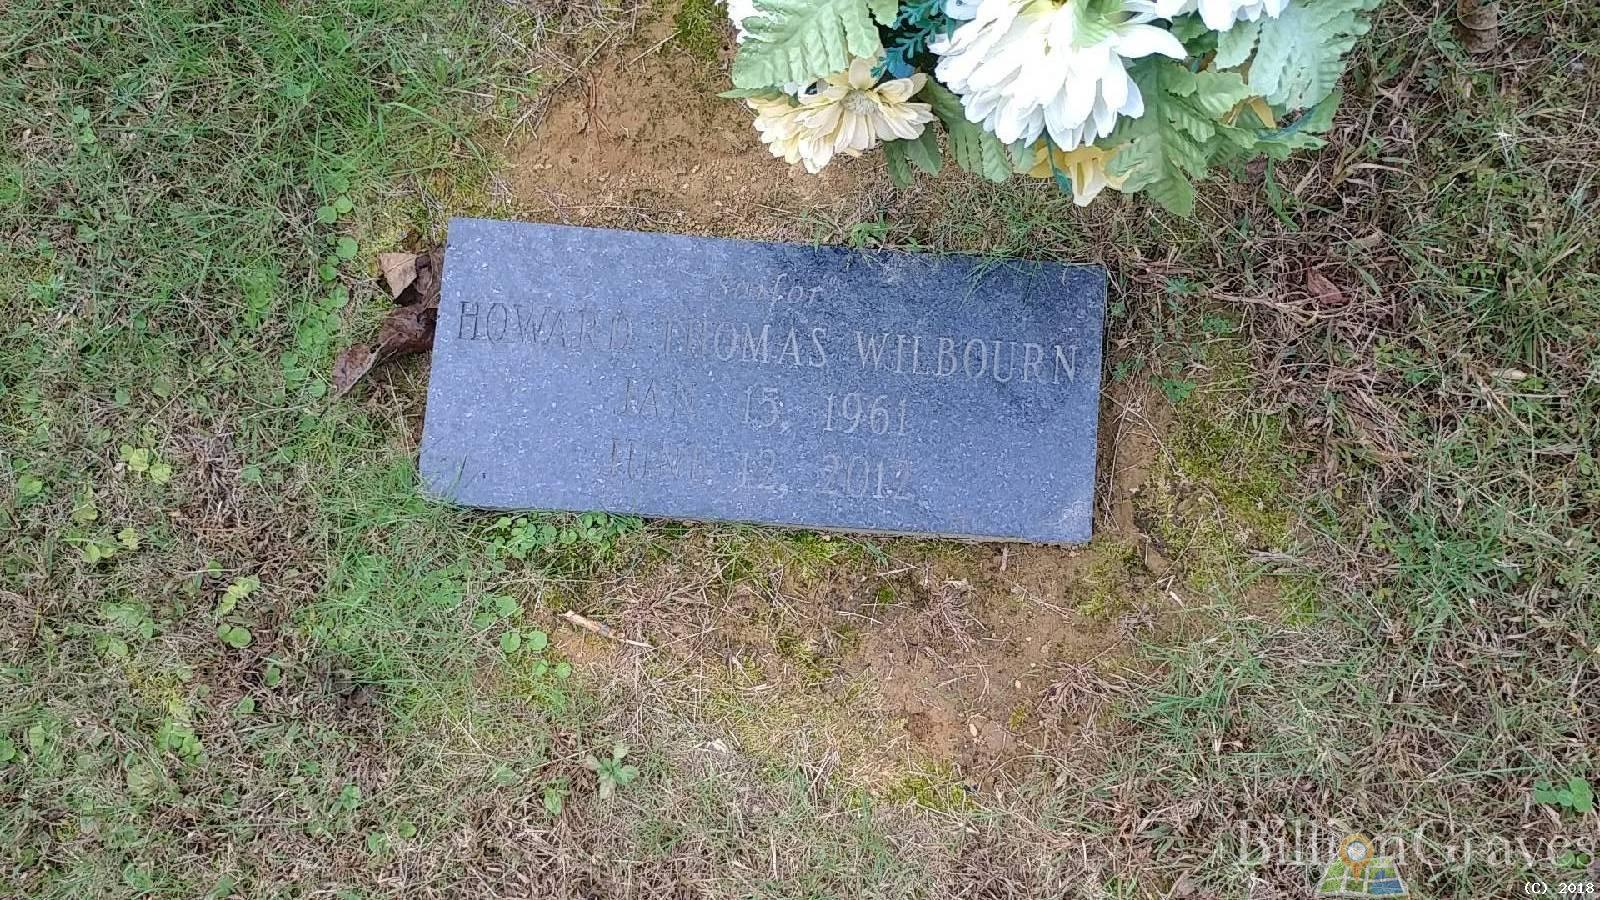flat: (418, 212, 1107, 549)
